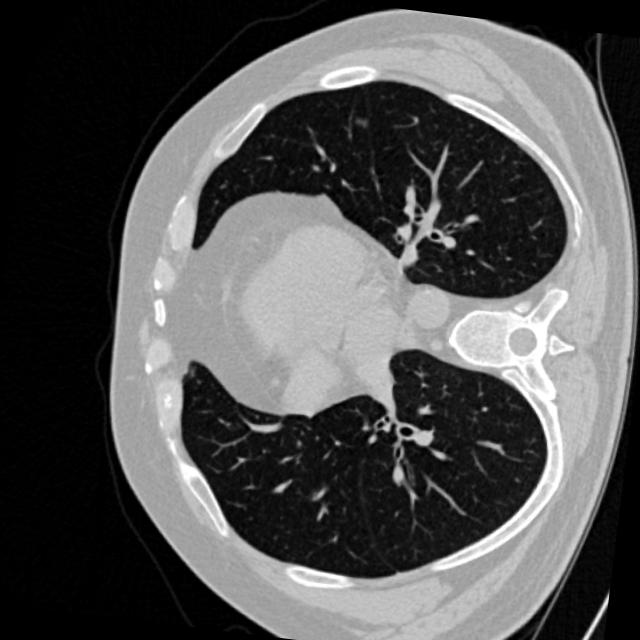nodule: (347, 110, 372, 135)
